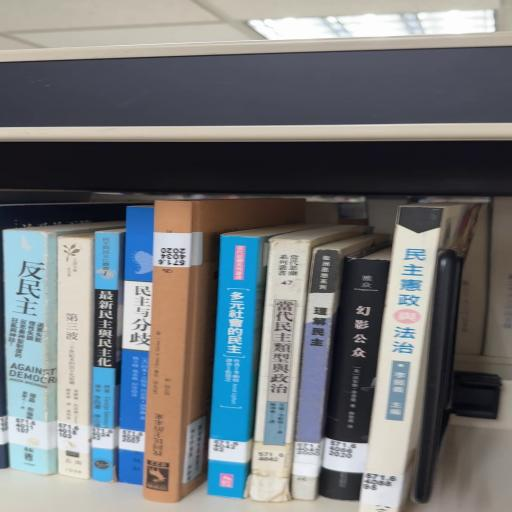reverse: (143, 198, 305, 503)
